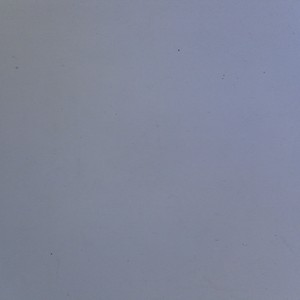back: (1, 1, 299, 300)
